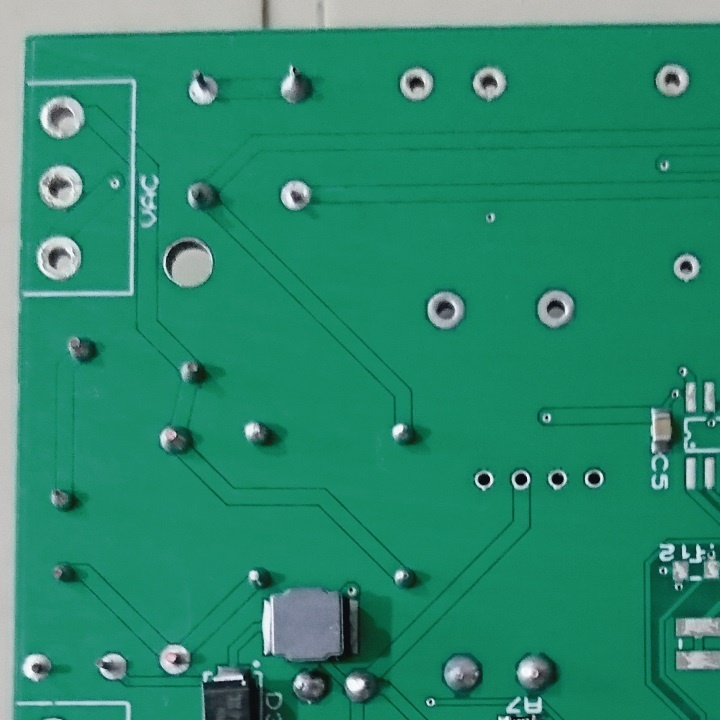F: (530, 283, 581, 335), (36, 89, 88, 140), (35, 234, 84, 283), (36, 166, 87, 210), (423, 287, 469, 332), (468, 61, 510, 103), (396, 64, 436, 106), (652, 60, 692, 100), (154, 638, 193, 678), (184, 68, 221, 107), (18, 652, 61, 684), (276, 178, 313, 214), (93, 648, 130, 684), (671, 250, 702, 286), (470, 466, 498, 493), (544, 467, 572, 494), (508, 466, 533, 492), (583, 466, 603, 492)
